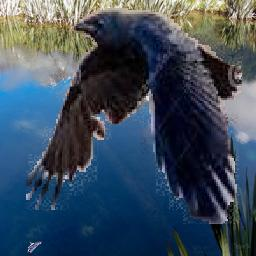Crow: (27, 9, 244, 226)
Swallow: (28, 241, 43, 253)
